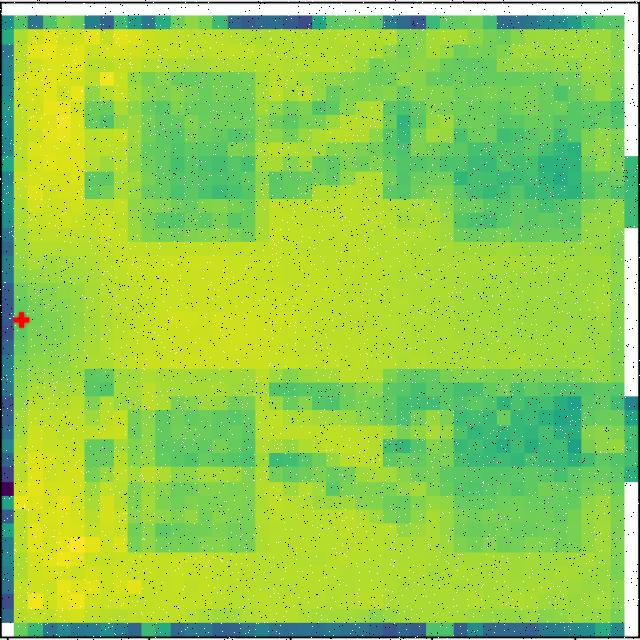Concrete: (454, 380, 584, 554)
Glass: (452, 72, 580, 242)
Metal: (125, 374, 256, 554)
Wood: (127, 69, 257, 245)
